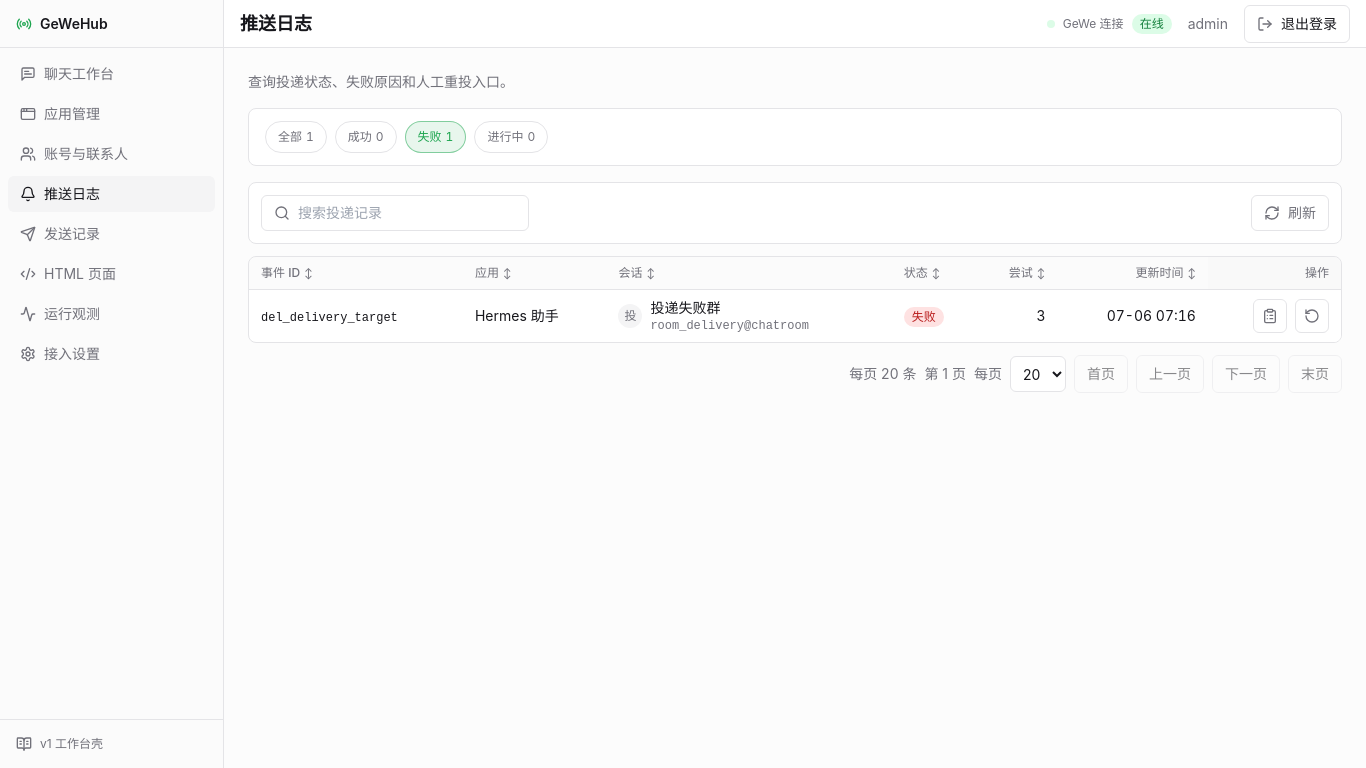
Test: App › 推送日志会话名可以直达工作台对应会话
Click the link with aria-label "打开工作台会话 投递失败群": click(714, 316) [618,299,809,333]
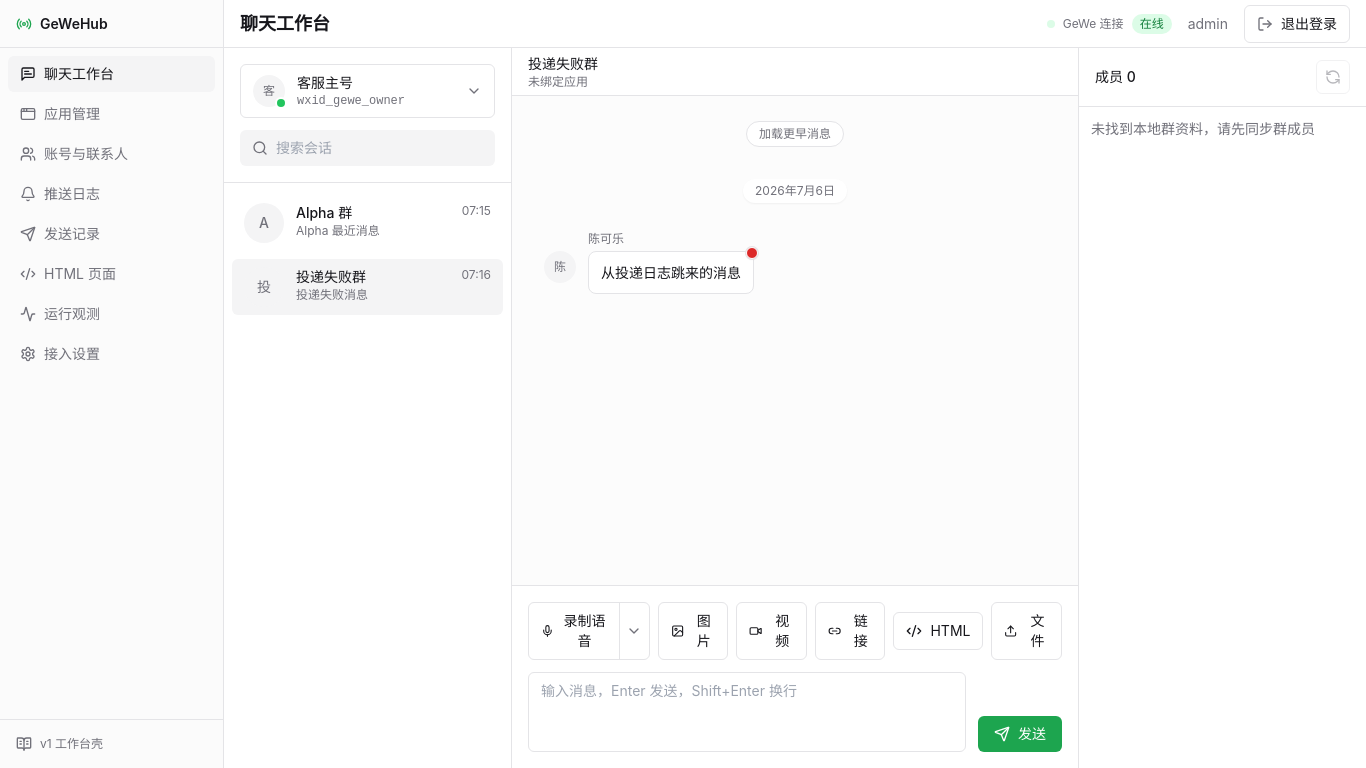
Now the heading "投递失败群" is shown, box [528,54,598,74]
Now the text "从投递日志跳来的消息" is shown, box [601,264,741,281]
